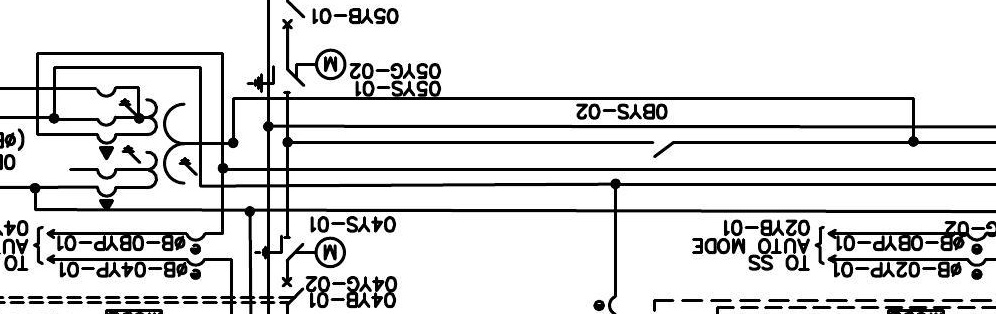115_3ways_ds_w_motor: (246, 47, 347, 94), (253, 234, 347, 269)
115_breaker: (281, 276, 305, 306)
115_ds: (650, 140, 676, 159)
115_vt_1p: (95, 97, 199, 211)
